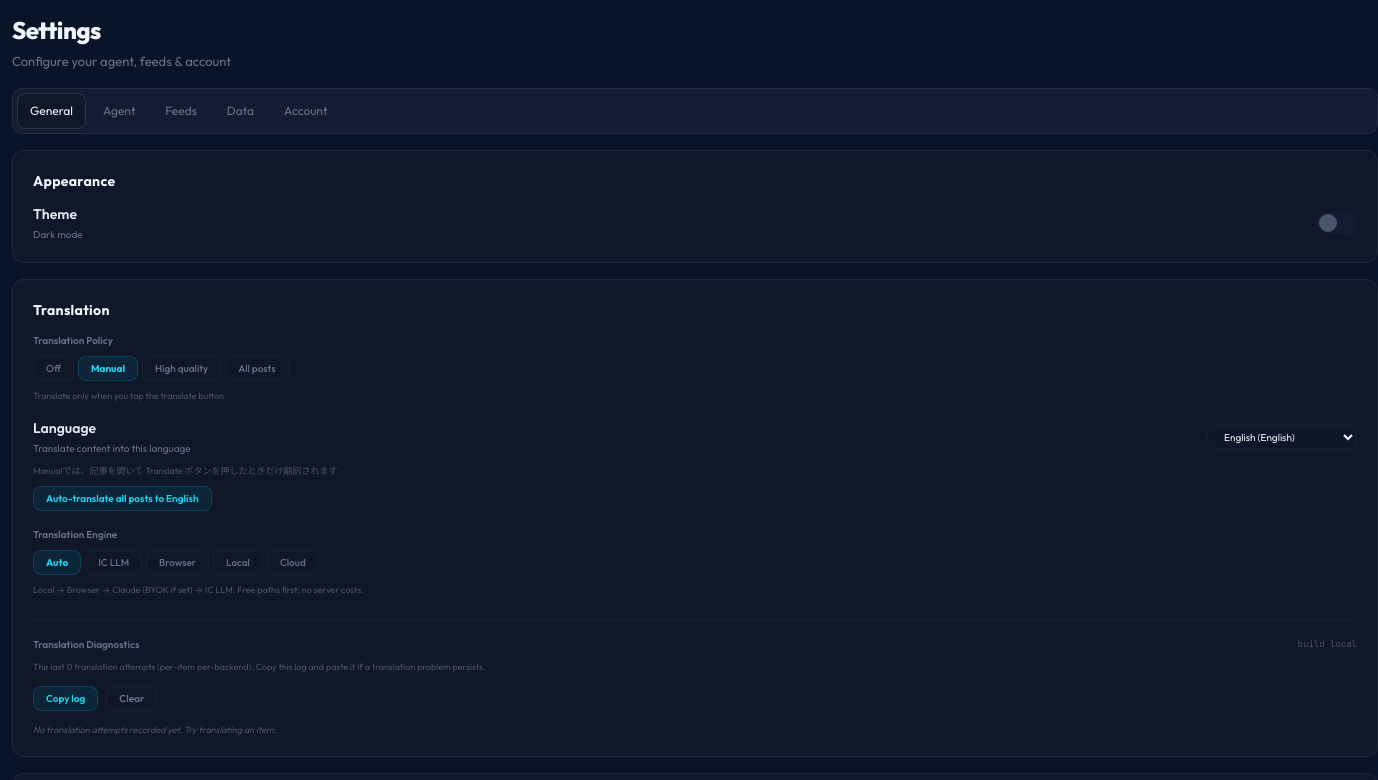
Test: SettingsTab — sub-tab click navigation › switches to Account tab on click
What coordinates should you click on to do the following:
click the button with test id "settings-tab-account"
I would click on:
 (306, 110)
Its box is 271,92 -> 340,128.
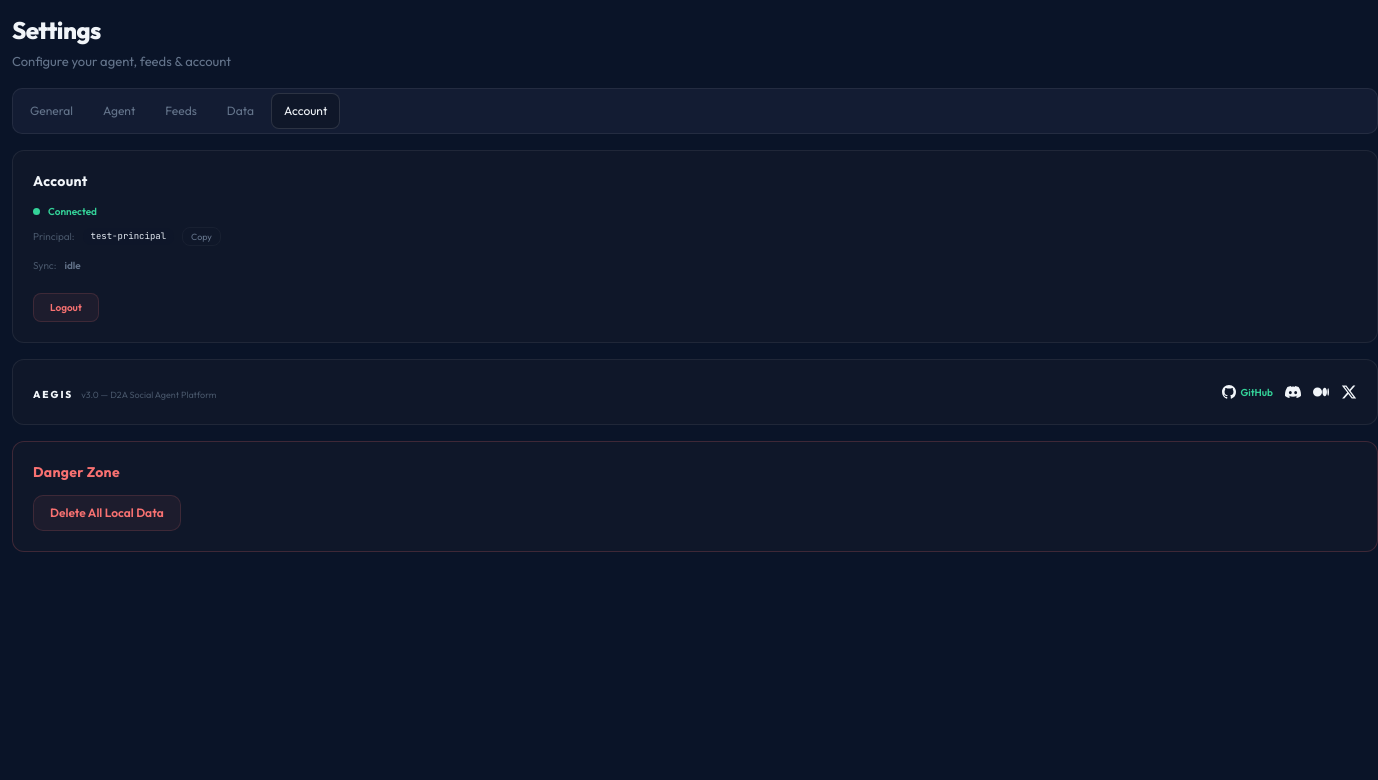
Expected: the text "AEGIS" is shown, 33,388 -> 73,401
Expected: the text "Appearance" is gone
